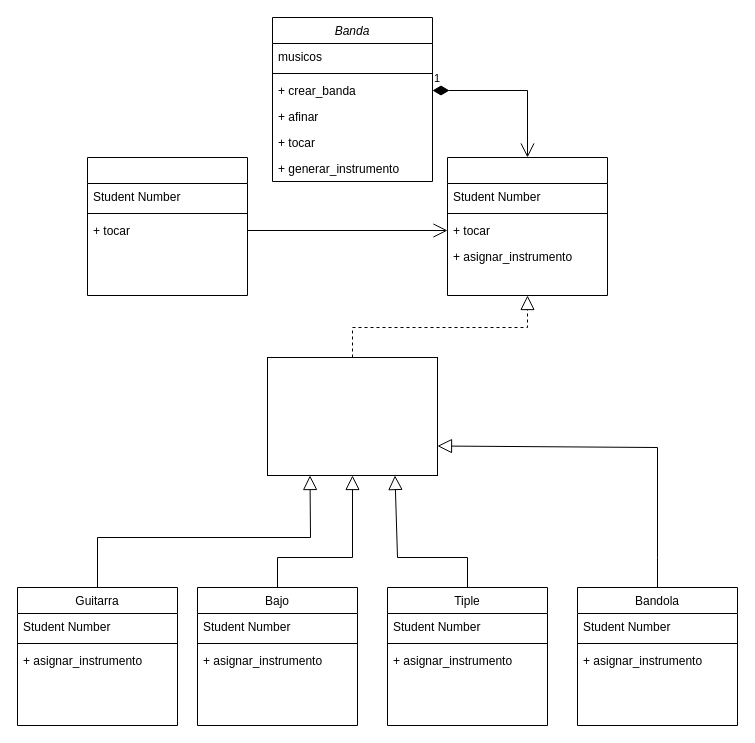
Some shapes in this 755 by 743 pixel diagram are drawn without their labels. Each missing label, with the box of its shape:
<<Interface>> Instrumento + asignar_instrumento: void: (266, 356, 438, 476)
Afinador: (86, 156, 248, 296)
Musico: (446, 156, 608, 296)
